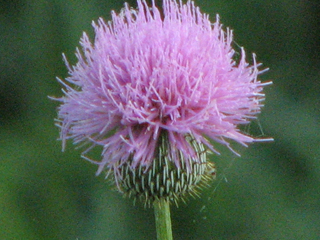thistle: (62, 3, 275, 215)
